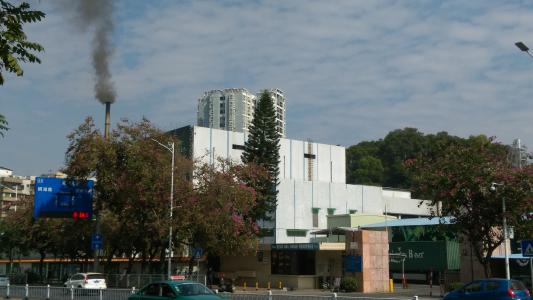smoke: (60, 1, 119, 107)
